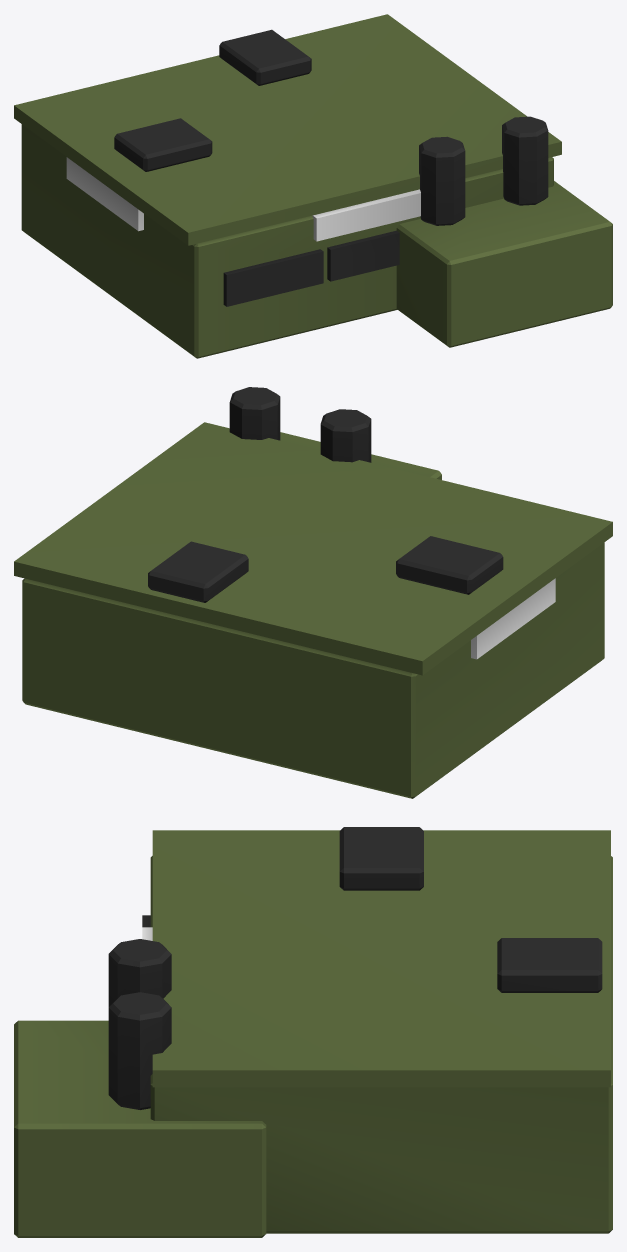
File: ua-power-plant.glb
3 views of the same model, one above another, from view 1: azimuth 30°, elevation 25°; view 2: azimuth 150°, elevation 25°; view 3: azimuth 270°, elevation 25° (orthographic). The views are drawn at different scales.
Parts seen in each view (by area): view 1: ua-power-plant; view 2: ua-power-plant; view 3: ua-power-plant.
Part boxes in pixels (x1,y1,x2,y2): ua-power-plant: (14, 14, 612, 358); ua-power-plant: (14, 387, 612, 798); ua-power-plant: (14, 827, 612, 1237).
Bounding box in the file's own units: 2.7 × 1.1 × 2.85.
